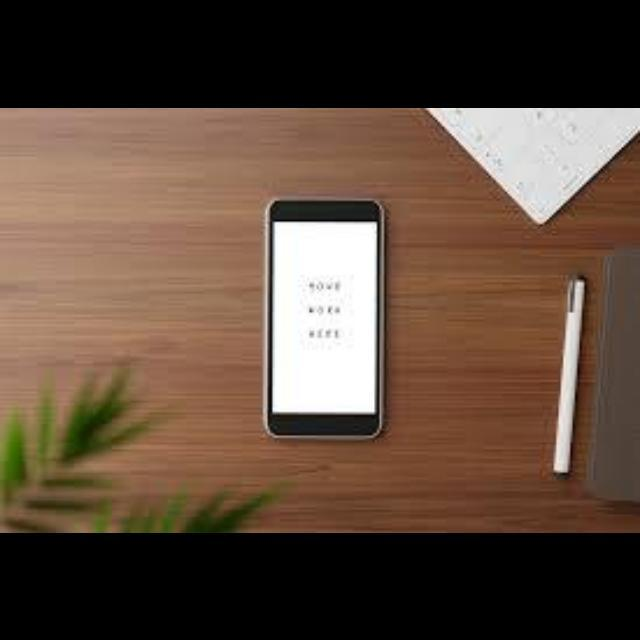Phone: (250, 188, 402, 444)
